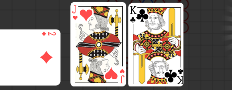JH: (71, 4, 78, 21)
KC: (129, 5, 138, 25)
